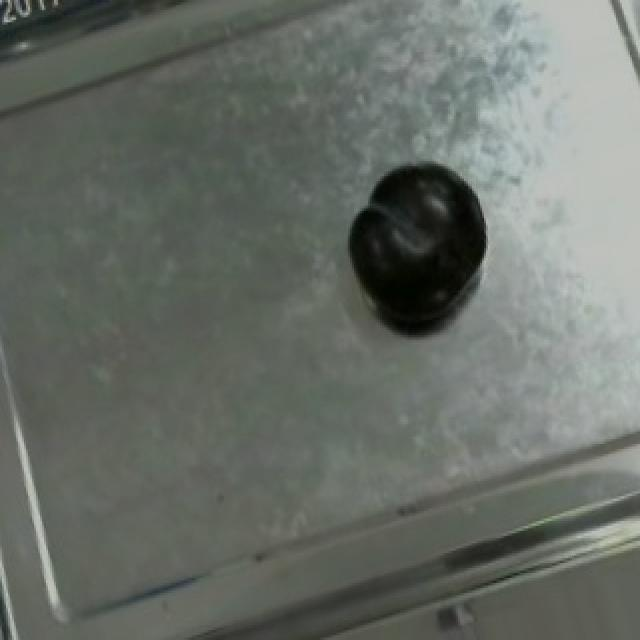Fruit: (330, 144, 500, 337)
